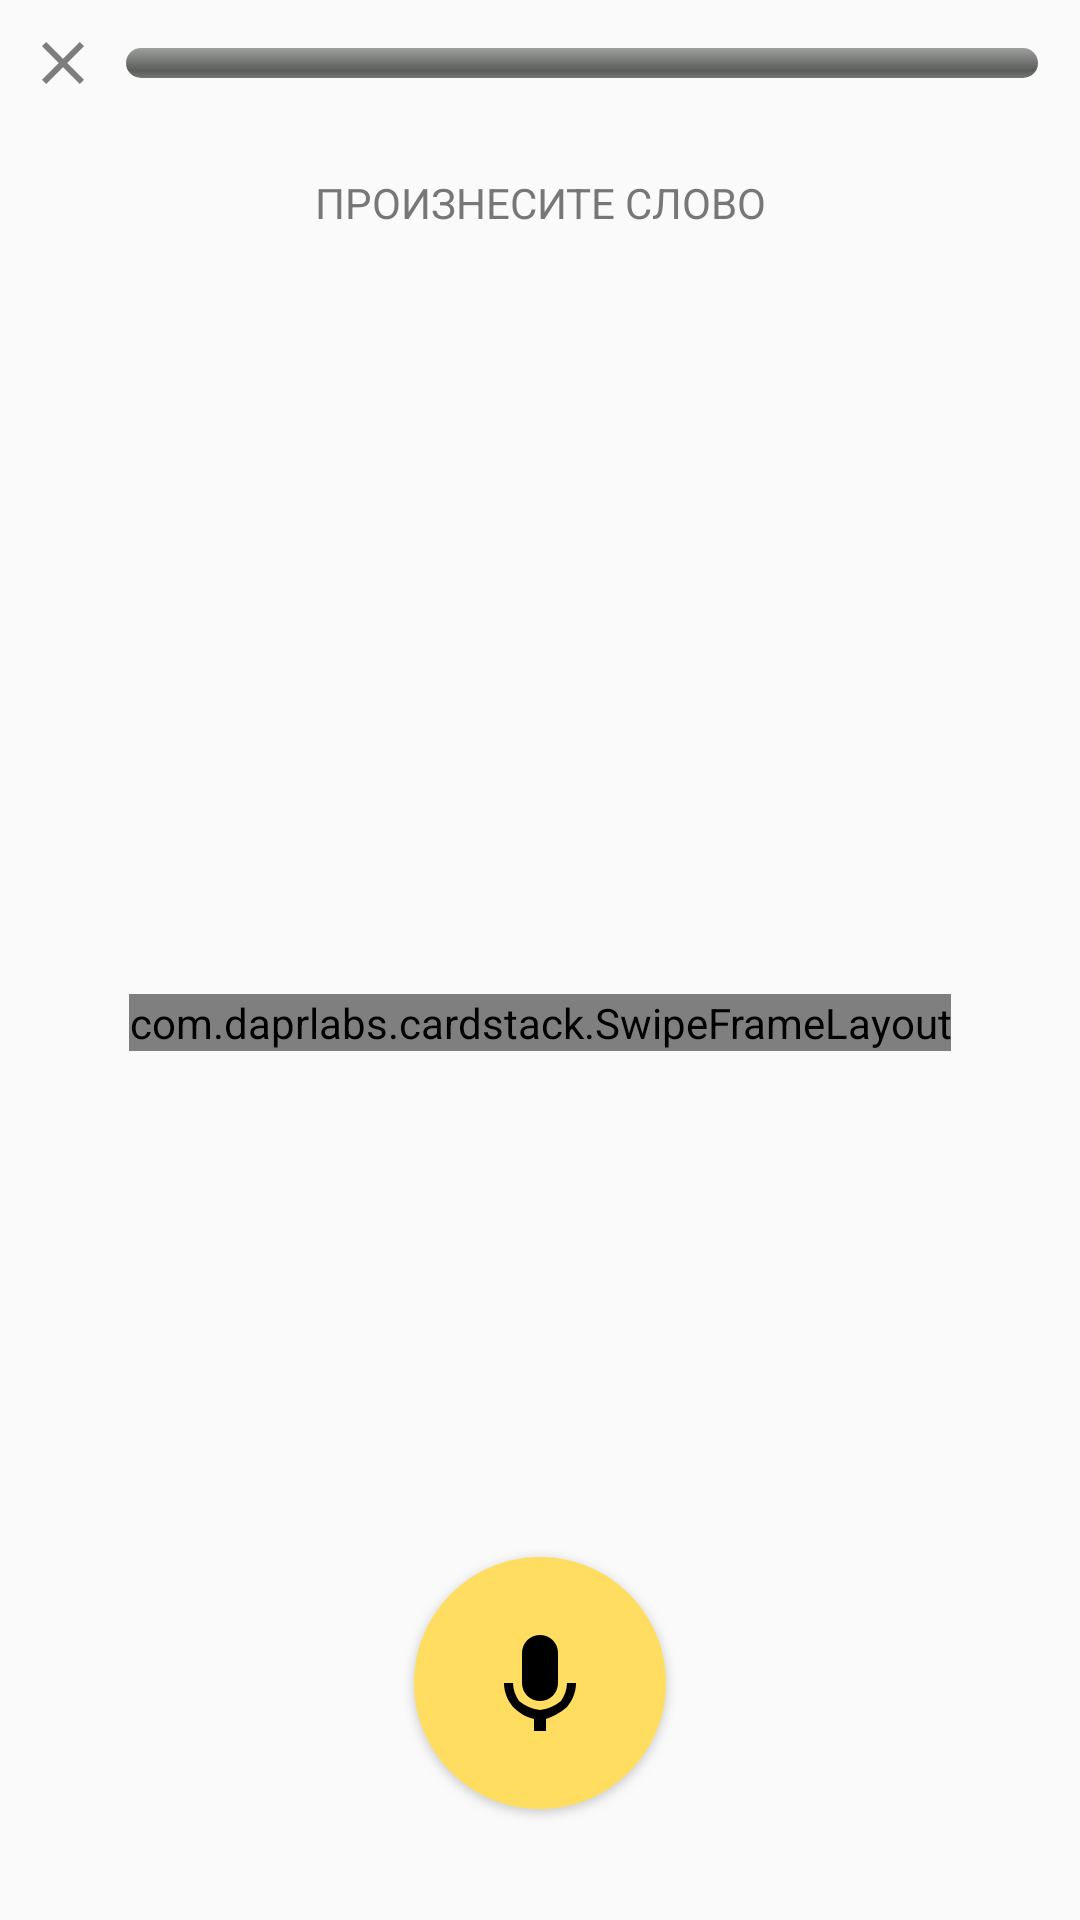

Icons on this 1080w x 1920h Android screen, each with the point to tap as (x,y):
close: (63,63)
